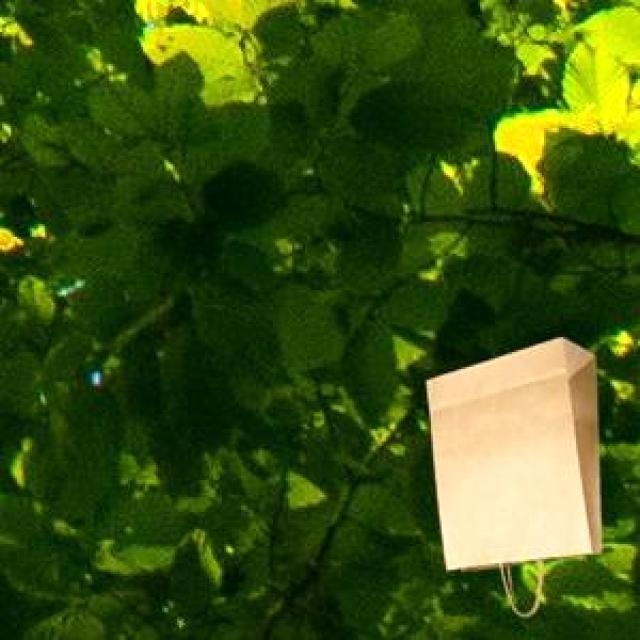Paper_Bag: (424, 334, 598, 605)
